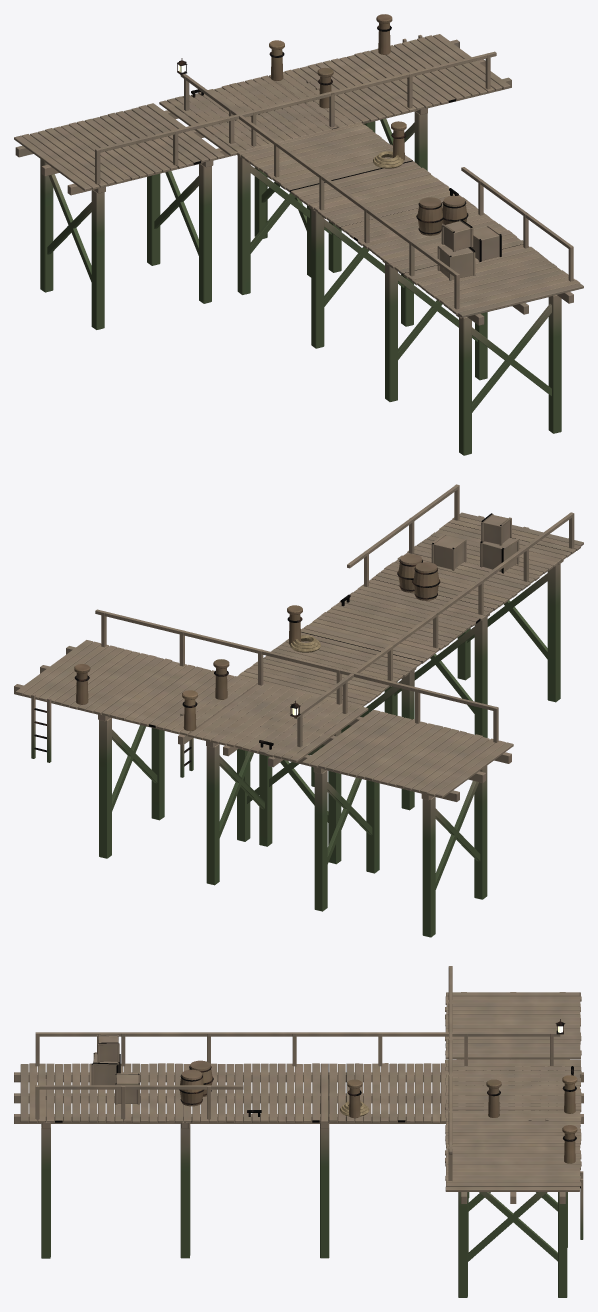
File: pier_t.glb
3 renders of one model, top to bottom at view 1: azimuth 30°, elevation 25°; view 2: azimuth 150°, elevation 25°; view 3: azimuth 270°, elevation 25°, orthographic. The views are drawn at different scales.
Visible parts, largest first — view 1: T_wood, T_iron; view 2: T_wood, T_iron; view 3: T_wood, T_iron.
Boxes of the visible parts, x1,y1,x2,y2 form: T_wood: (14, 14, 583, 455); T_iron: (177, 25, 468, 234); T_wood: (14, 484, 583, 937); T_iron: (34, 559, 440, 766); T_wood: (14, 966, 583, 1297); T_iron: (179, 1019, 576, 1141).
Bounding box in the file's own units: 11.3 × 4.9 × 13.3.
4 materials, 3 textured.
